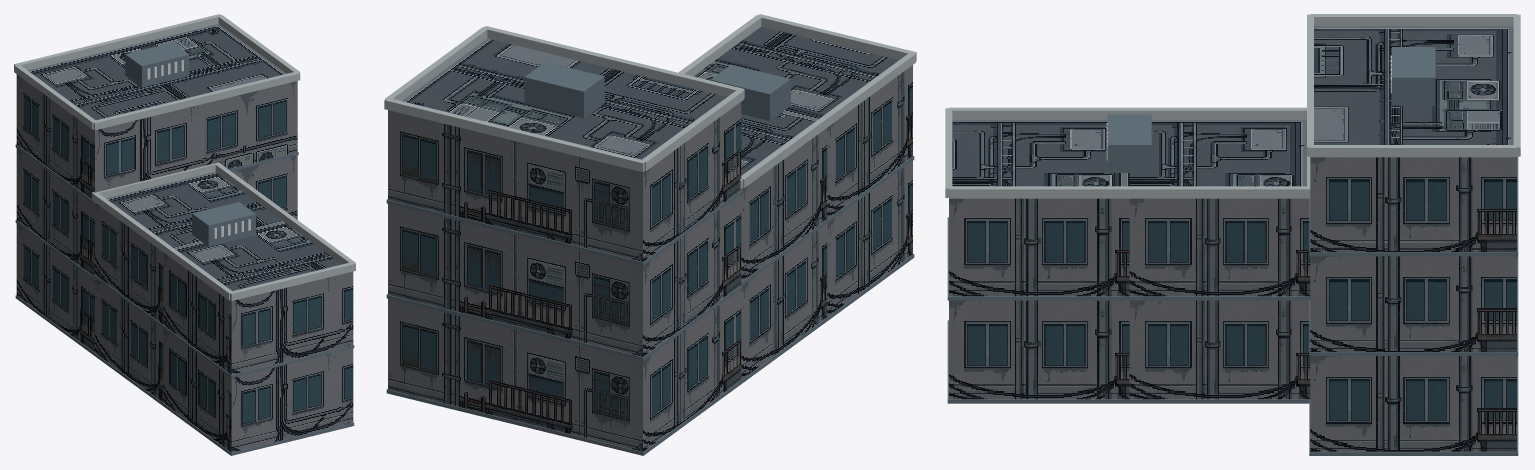
Rendered from street_west_corner.glb.
The picture shows the model from 3 angles, left to right: view 1: azimuth 30°, elevation 25°; view 2: azimuth 150°, elevation 25°; view 3: azimuth 270°, elevation 25°; orthographic projection. The views are drawn at different scales.
Parts seen in each view (by area): view 1: street_west_corner; view 2: street_west_corner; view 3: street_west_corner.
Boxes of the visible parts, x1,y1,x2,y2 form: street_west_corner: (14, 14, 355, 455); street_west_corner: (384, 14, 916, 455); street_west_corner: (945, 14, 1520, 455).
Size of the model in its own units: 6.14 by 7 by 11.14.
Materials: 5 (2 with a texture image).
